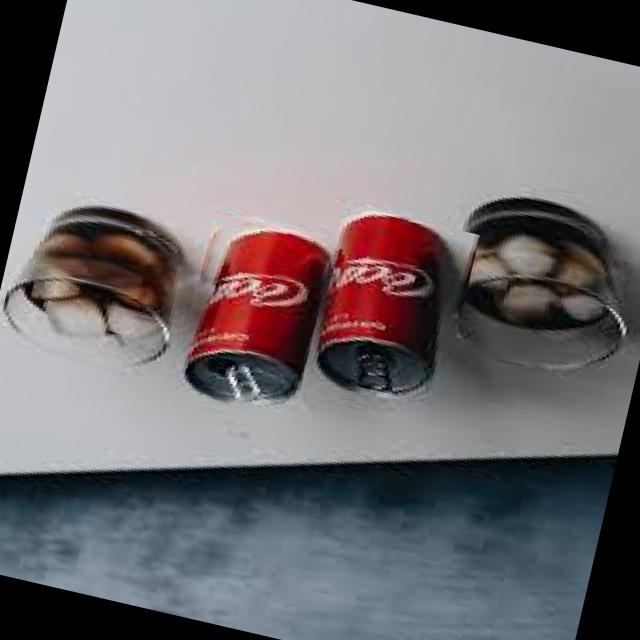Cans: (271, 196, 478, 420), (158, 202, 335, 420)
